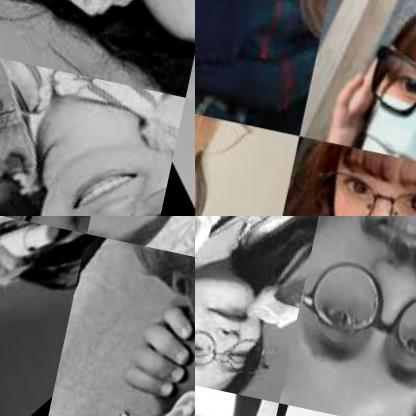Glasses: (342, 33, 415, 180), (284, 138, 415, 215), (195, 104, 263, 179)
glasses: (292, 250, 415, 375), (18, 133, 172, 215), (195, 304, 281, 394), (63, 0, 194, 31)
hands: (0, 216, 51, 328)
